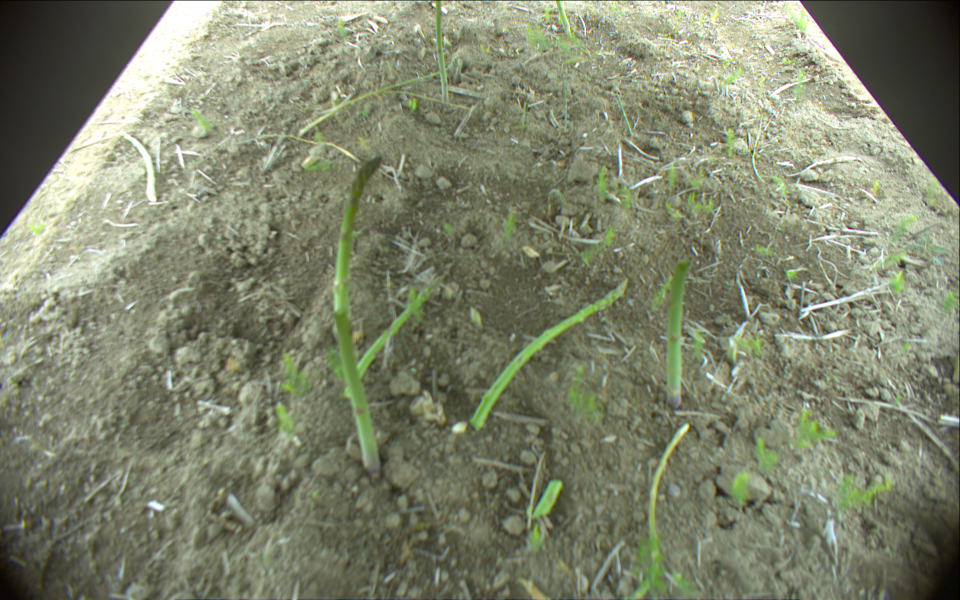aspa: (526, 423, 691, 600), (470, 276, 630, 431), (334, 156, 381, 472), (342, 284, 436, 402), (298, 69, 440, 136), (312, 88, 478, 116), (238, 133, 361, 163), (665, 261, 690, 407), (116, 126, 157, 201), (434, 1, 449, 105), (556, 1, 574, 36)
